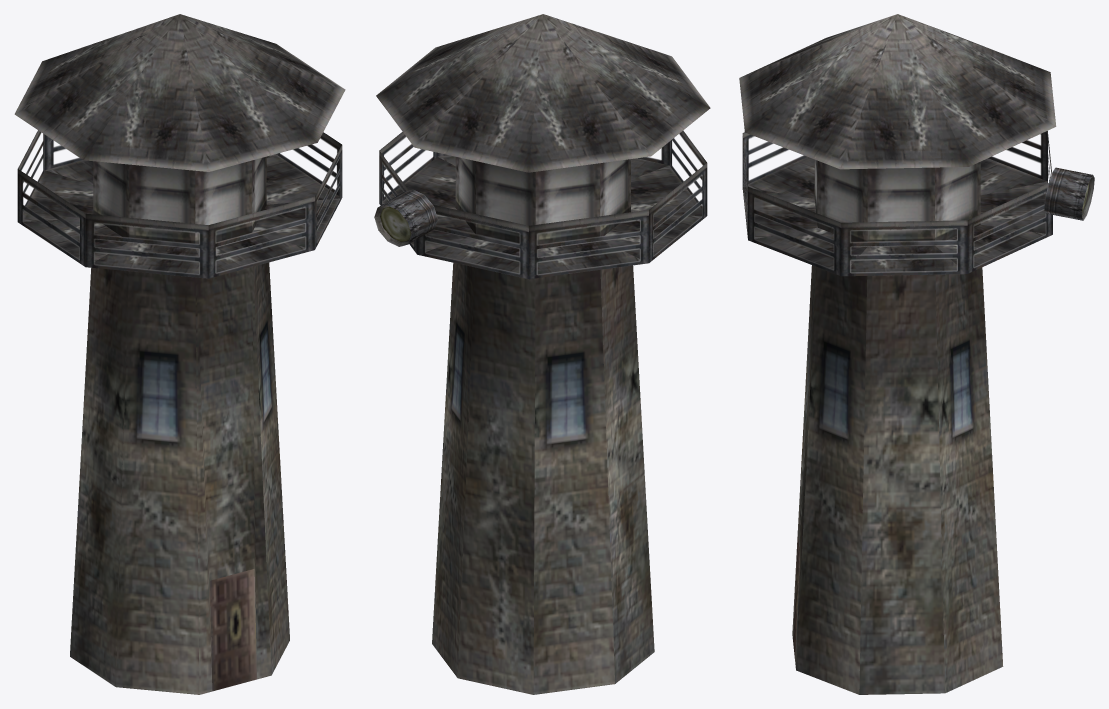
The model's file is Environment - Prop - TOWER 2 - Damaged - PMTOWER2_D.glb.
The picture shows the model from 3 angles, left to right: view 1: azimuth 30°, elevation 25°; view 2: azimuth 150°, elevation 25°; view 3: azimuth 270°, elevation 25°; orthographic projection.
Visible parts, largest first — view 1: PMTOWER2_D; view 2: PMTOWER2_D; view 3: PMTOWER2_D.
Part boxes in pixels (left/top/right/bottom): PMTOWER2_D: left=14, top=14, right=345, bottom=694; PMTOWER2_D: left=374, top=14, right=710, bottom=694; PMTOWER2_D: left=739, top=14, right=1094, bottom=694.
Bounding box in the file's own units: 33.42 × 74.03 × 37.48.
Materials: 1 (1 with a texture image).
